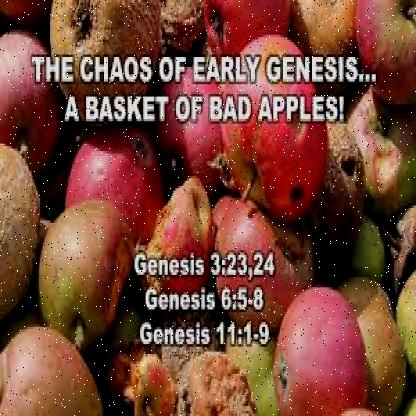apple: (278, 284, 370, 408)
damaged_apple: (220, 42, 328, 216), (59, 106, 171, 248), (39, 206, 136, 352), (44, 3, 160, 112), (132, 178, 212, 292), (313, 107, 369, 240), (353, 3, 410, 119), (186, 327, 252, 413), (105, 334, 179, 408)
